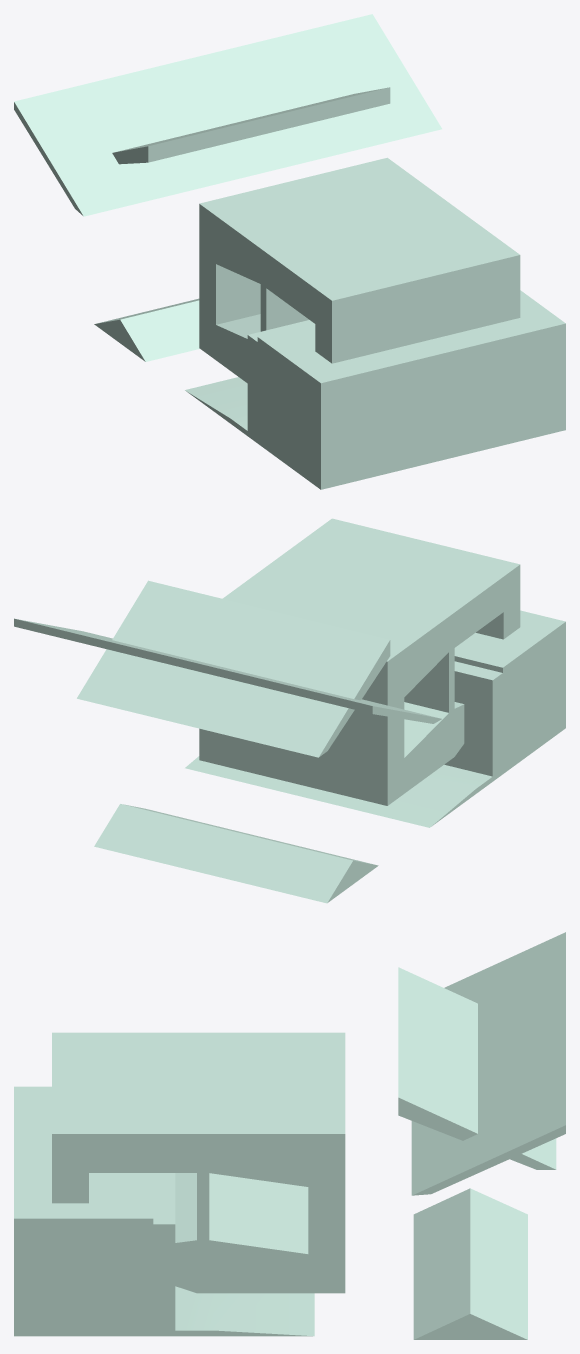
3 renders of one model, top to bottom at view 1: azimuth 30°, elevation 25°; view 2: azimuth 150°, elevation 25°; view 3: azimuth 270°, elevation 25°, orthographic. The views are drawn at different scales.
Parts seen in each view (by area): view 1: Renderer Node; view 2: Renderer Node; view 3: Renderer Node.
Part boxes in pixels (x1,y1,x2,y2): Renderer Node: (14,14,565,489); Renderer Node: (14,518,565,903); Renderer Node: (14,932,565,1339).
Size of the model in its own units: 1.88 by 1.13 by 2.27.
